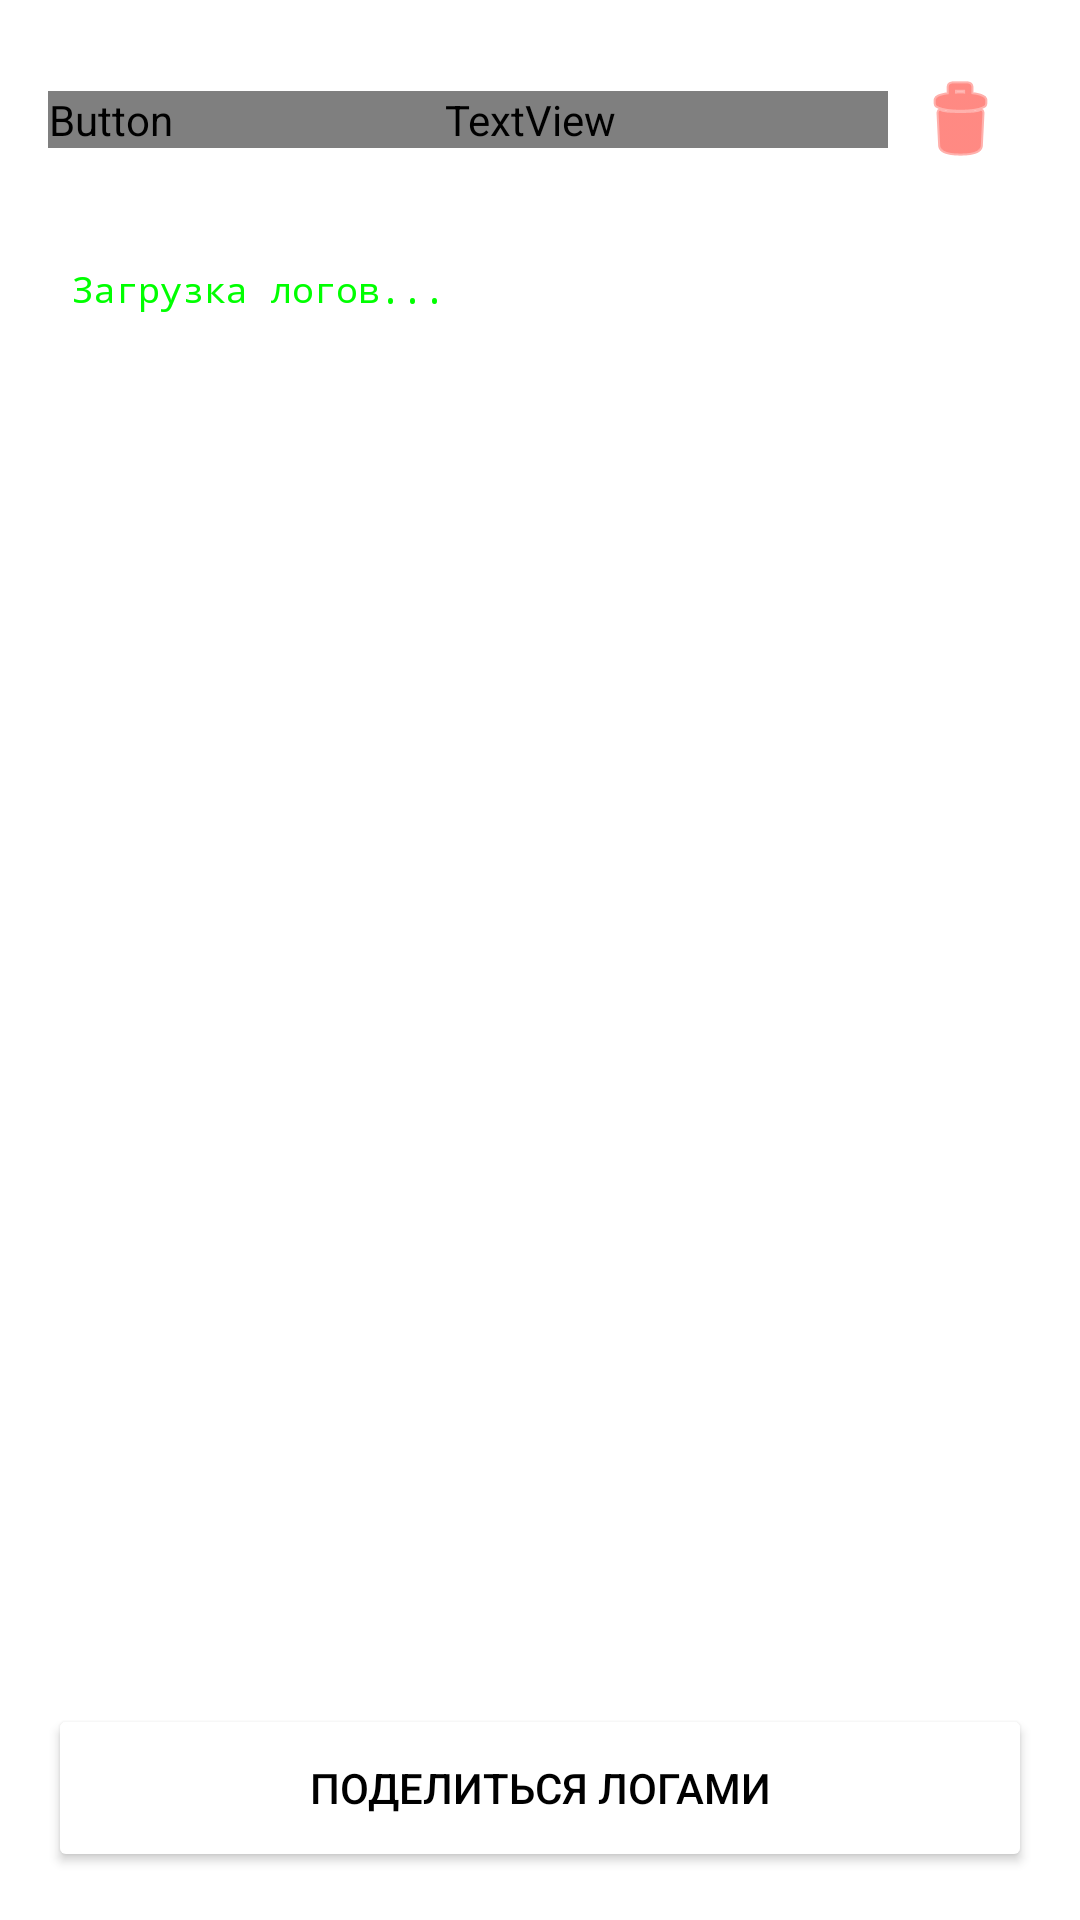

Named icons in this screenshot (1080w x 1920h) and their bounding boxes, (x1,y1,x2,y2):
delete: (933,81,988,156)
